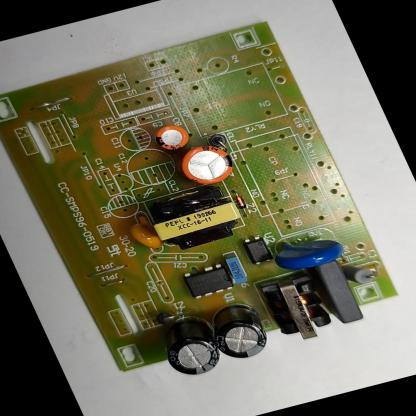Cap1: (172, 141, 242, 192)
Cap2: (151, 120, 197, 154)
Cap3: (201, 298, 276, 365)
Cap4: (152, 312, 229, 380)
MOSFET: (180, 261, 236, 302)
Mov: (268, 224, 351, 275)
Resistor: (341, 258, 380, 290)
Transformer: (141, 180, 253, 257), (259, 271, 341, 347)
